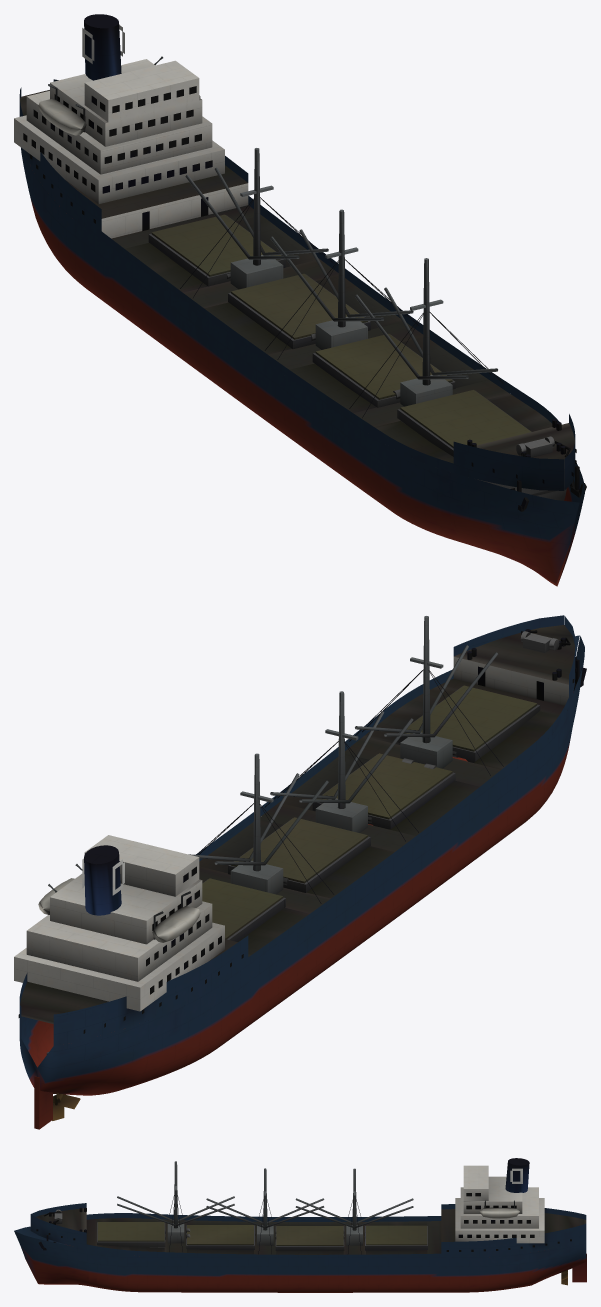
The model's file is model_built.glb.
3 renders of one model, top to bottom at view 1: azimuth 30°, elevation 25°; view 2: azimuth 150°, elevation 25°; view 3: azimuth 270°, elevation 25°, orthographic. The views are drawn at different scales.
Visible parts, largest first — view 1: main; view 2: main; view 3: main.
Part boxes in pixels (x1,y1,x2,y2): main: (14, 14, 586, 586); main: (14, 615, 586, 1129); main: (14, 1158, 586, 1292).
Size of the model in its own units: 16.12 by 24.38 by 103.
Materials: 1 (1 with a texture image).
